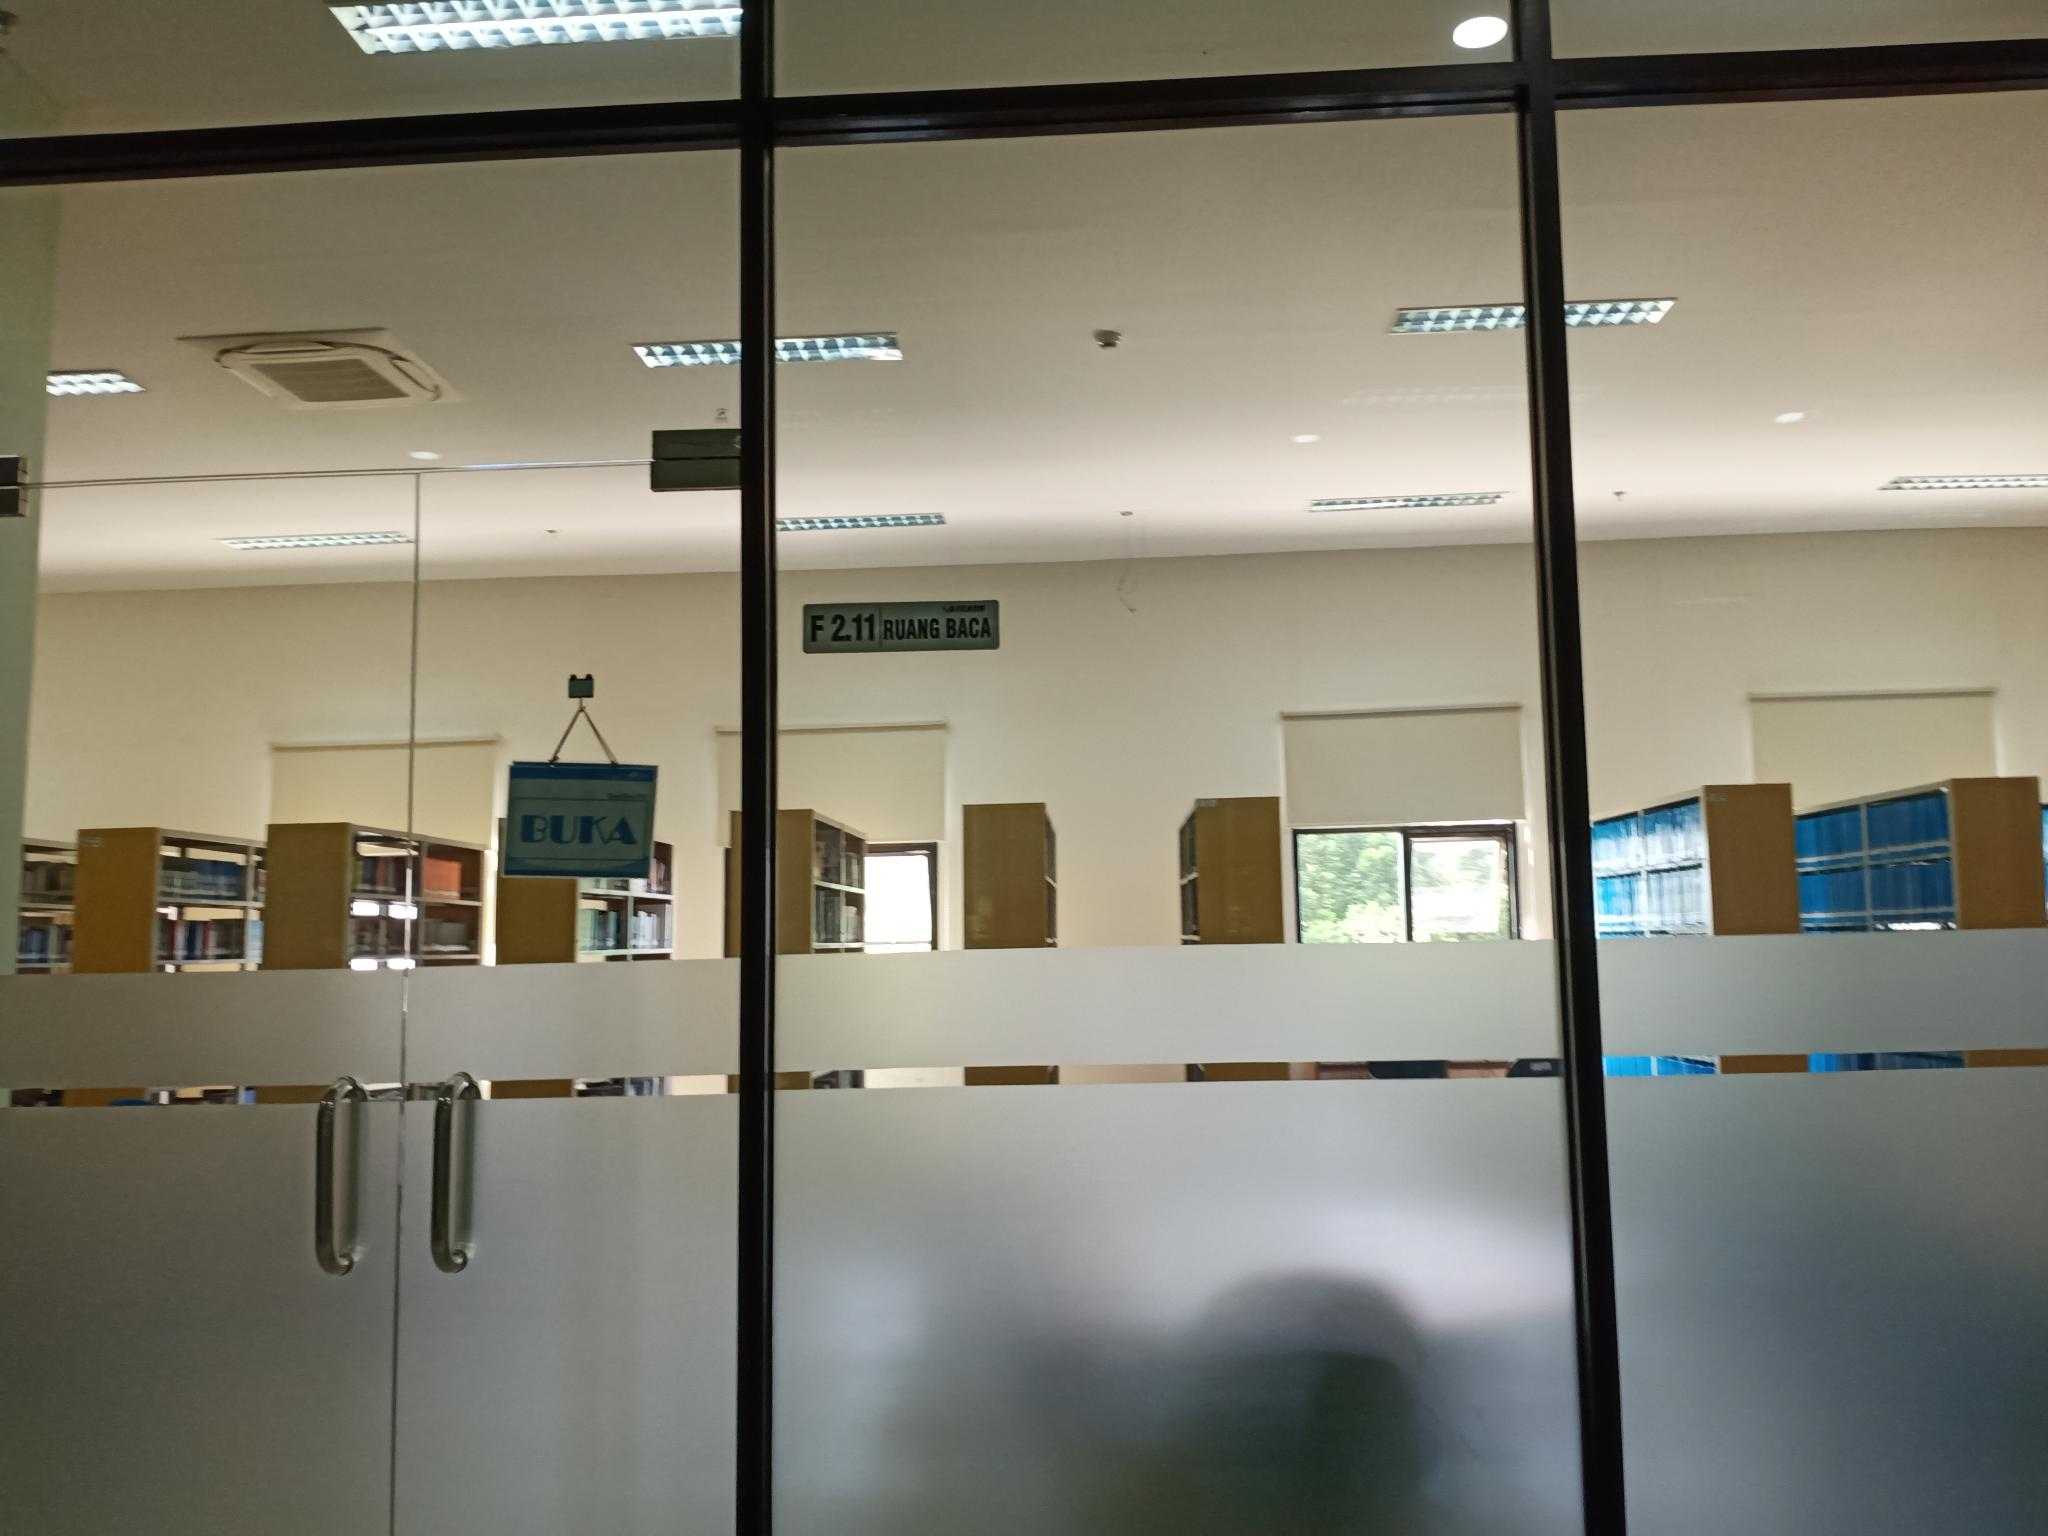plate: (801, 599, 1001, 653)
